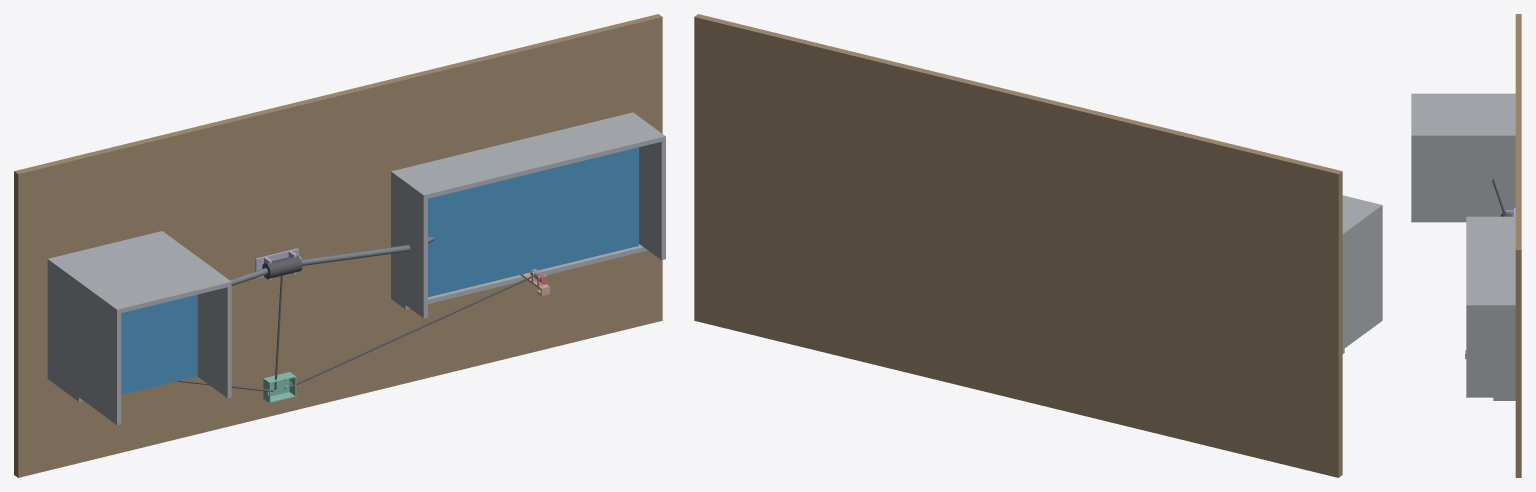
The model's file is system_assembly.glb.
The picture shows the model from 3 angles, left to right: view 1: azimuth 30°, elevation 25°; view 2: azimuth 150°, elevation 25°; view 3: azimuth 270°, elevation 25°; orthographic projection. The views are drawn at different scales.
Parts seen in each view (by area): view 1: part_0, part_12, part_10, part_4, part_2, part_6, part_8, part_3, part_9, part_11, part_23, part_16 (+1 smaller); view 2: part_0, part_2, part_4; view 3: part_3, part_4, part_10, part_9, part_0, part_15.
Part boxes in pixels (x1,y1,x2,y2): part_0: (14,14,662,477); part_12: (428,147,638,297); part_10: (391,112,665,199); part_4: (47,231,231,313); part_2: (47,264,121,425); part_6: (121,294,197,394); part_8: (391,176,427,318); part_3: (197,286,231,398); part_9: (639,140,665,260); part_11: (391,244,647,309); part_23: (263,372,296,403); part_16: (301,245,410,265); part_0: (694,14,1342,477); part_2: (1342,210,1382,349); part_4: (1342,195,1382,238); part_3: (1411,139,1515,222); part_4: (1411,93,1515,138); part_10: (1466,216,1515,308); part_9: (1466,308,1515,397); part_0: (1515,14,1521,477); part_15: (1492,178,1506,212).
Bounding box in the file's own units: 1820 × 820 × 360.
